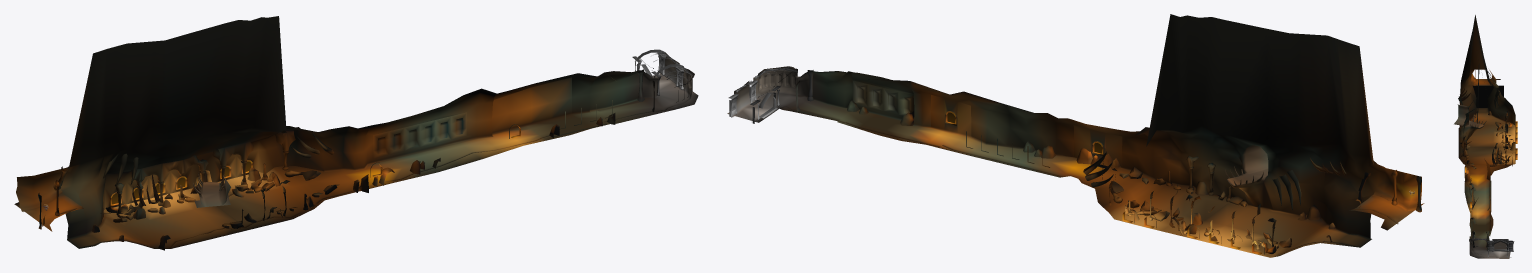
Rendered from 07Hall.gltf.
3 renders of one model, left to right at view 1: azimuth 30°, elevation 25°; view 2: azimuth 150°, elevation 25°; view 3: azimuth 270°, elevation 25°, orthographic. The views are drawn at different scales.
Visible parts, largest first — view 1: stg040_o22_Mesh_0000, stg040_o22_Mesh_0018, stg040_o22_Mesh_0004, stg040_o22_Mesh_0012, stg040_a22_Mesh_0000, stg040_o22_Mesh_0011, stg040_o22_Mesh_0015, stg040_o22_Mesh_0007, stg040_o22_Mesh_0008, stg040_o22_Mesh_0014, stg040_o22_Mesh_0017; view 2: stg040_o22_Mesh_0000, stg040_o22_Mesh_0018, stg040_o22_Mesh_0011, stg040_o22_Mesh_0015, stg040_a22_Mesh_0000, stg040_o22_Mesh_0007, stg040_o22_Mesh_0004, stg040_o22_Mesh_0008, stg040_o22_Mesh_0017, stg040_o22_Mesh_0014; view 3: stg040_o22_Mesh_0018, stg040_o22_Mesh_0000, stg040_a22_Mesh_0000, stg040_o22_Mesh_0007, stg040_o22_Mesh_0004, stg040_o22_Mesh_0008, stg040_o22_Mesh_0017, stg040_o22_Mesh_0014, stg040_p23_Mesh_0000, stg040_o22_Mesh_0015, stg040_o23_Mesh_0009, stg040_o23_Mesh_0008 (+1 smaller).
Boxes of the visible parts, x1,y1,x2,y2 form: stg040_o22_Mesh_0000: (16, 16, 694, 250); stg040_o22_Mesh_0018: (14, 74, 698, 248); stg040_o22_Mesh_0004: (105, 129, 339, 228); stg040_o22_Mesh_0012: (105, 77, 571, 209); stg040_a22_Mesh_0000: (21, 72, 690, 248); stg040_o22_Mesh_0011: (170, 64, 686, 193); stg040_o22_Mesh_0015: (373, 73, 692, 158); stg040_o22_Mesh_0007: (38, 51, 693, 229); stg040_o22_Mesh_0008: (103, 132, 333, 206); stg040_o22_Mesh_0014: (109, 133, 334, 228); stg040_o22_Mesh_0017: (110, 124, 520, 206); stg040_o22_Mesh_0000: (734, 14, 1421, 251); stg040_o22_Mesh_0018: (727, 93, 1424, 257); stg040_o22_Mesh_0011: (736, 77, 1122, 167); stg040_o22_Mesh_0015: (759, 71, 1049, 167); stg040_a22_Mesh_0000: (732, 91, 1416, 255); stg040_o22_Mesh_0007: (731, 66, 1421, 247); stg040_o22_Mesh_0004: (1097, 155, 1291, 252); stg040_o22_Mesh_0008: (1083, 151, 1346, 210); stg040_o22_Mesh_0017: (945, 111, 1264, 254); stg040_o22_Mesh_0014: (1108, 167, 1290, 253); stg040_o22_Mesh_0018: (1454, 79, 1515, 258); stg040_o22_Mesh_0000: (1457, 15, 1515, 252); stg040_a22_Mesh_0000: (1456, 78, 1512, 257); stg040_o22_Mesh_0007: (1464, 70, 1513, 257); stg040_o22_Mesh_0004: (1460, 111, 1513, 169); stg040_o22_Mesh_0008: (1459, 87, 1502, 165); stg040_o22_Mesh_0017: (1465, 121, 1517, 209); stg040_o22_Mesh_0014: (1465, 122, 1510, 166); stg040_p23_Mesh_0000: (1494, 241, 1506, 249); stg040_o22_Mesh_0015: (1470, 172, 1490, 251); stg040_o23_Mesh_0009: (1488, 240, 1512, 251); stg040_o23_Mesh_0008: (1493, 240, 1507, 250).
Bounding box in the file's own units: 244 × 71.08 × 40.67.
